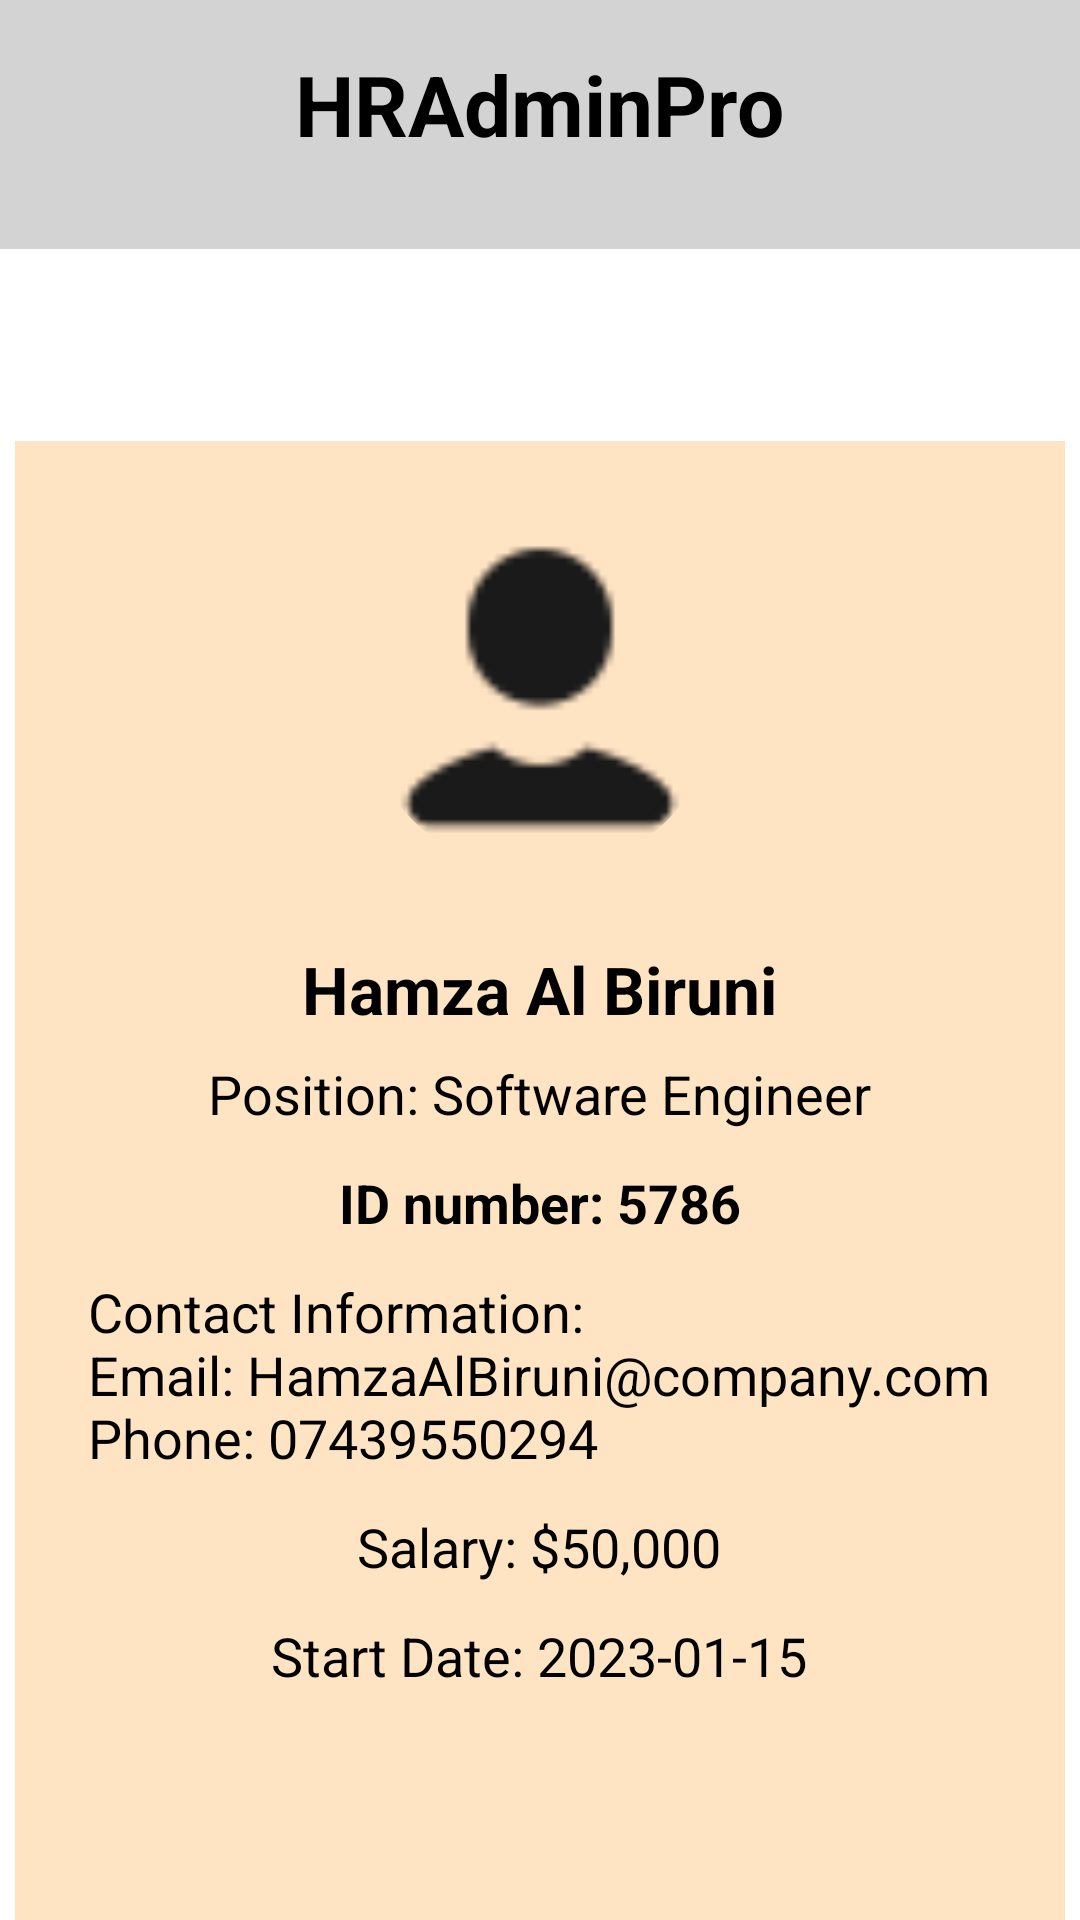

Icons on this 1080w x 1920h Android screen, each with the point to tap as point (x, y):
profile pic: point (540, 688)
